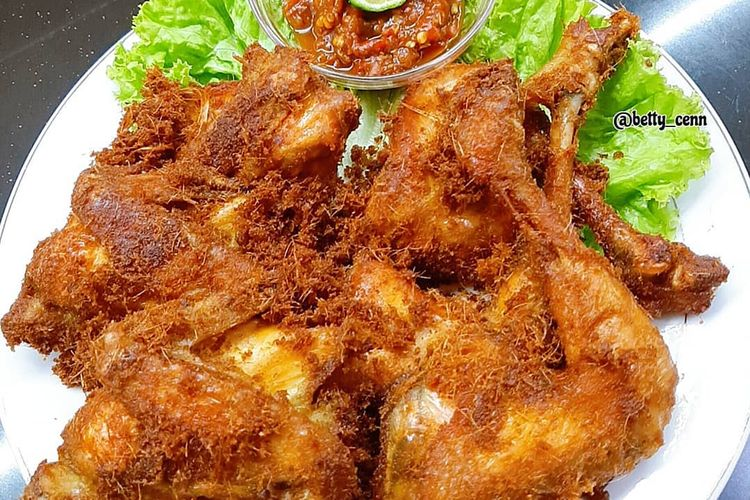Ayam: (377, 135, 669, 500)
